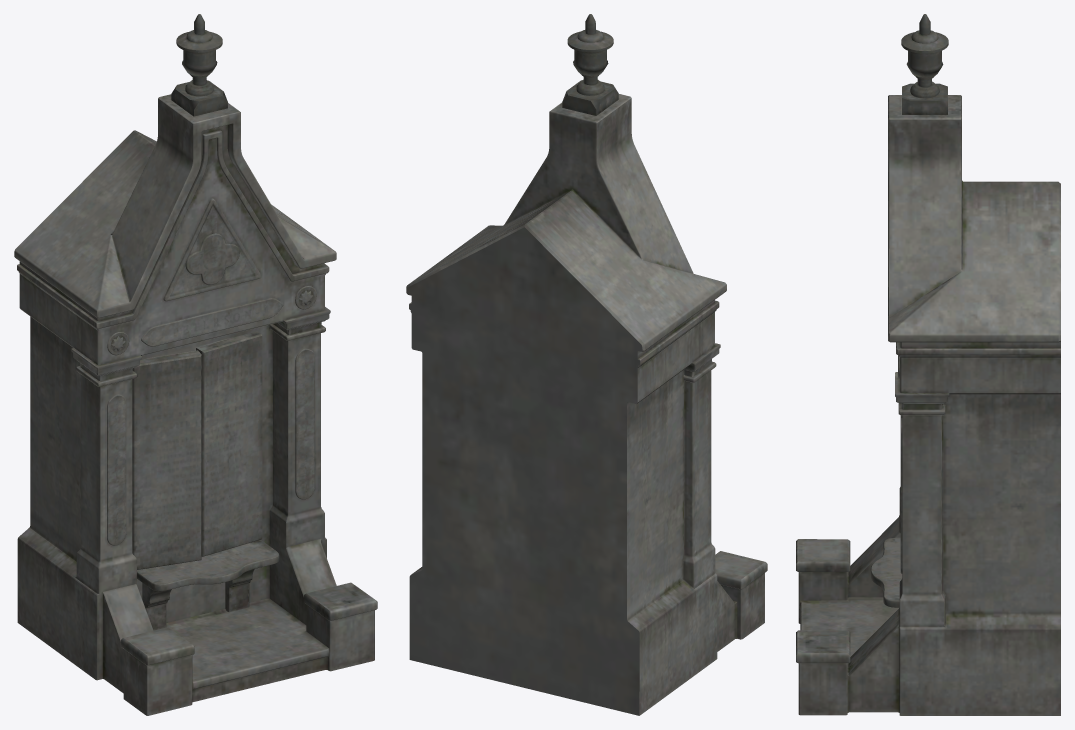
Rendered from ItemBox.fbx.
3 views of the same model, side by side, from view 1: azimuth 30°, elevation 25°; view 2: azimuth 150°, elevation 25°; view 3: azimuth 270°, elevation 25° (orthographic). The views are drawn at different scales.
Parts seen in each view (by area): view 1: ItemBox_Tomb_3; view 2: ItemBox_Tomb_3; view 3: ItemBox_Tomb_3.
Boxes of the visible parts, box(x1,y1,x2,y2) form: ItemBox_Tomb_3: box(14, 14, 377, 715); ItemBox_Tomb_3: box(406, 14, 767, 715); ItemBox_Tomb_3: box(796, 14, 1060, 715).
Size of the model in its own units: 190 by 476 by 178.
